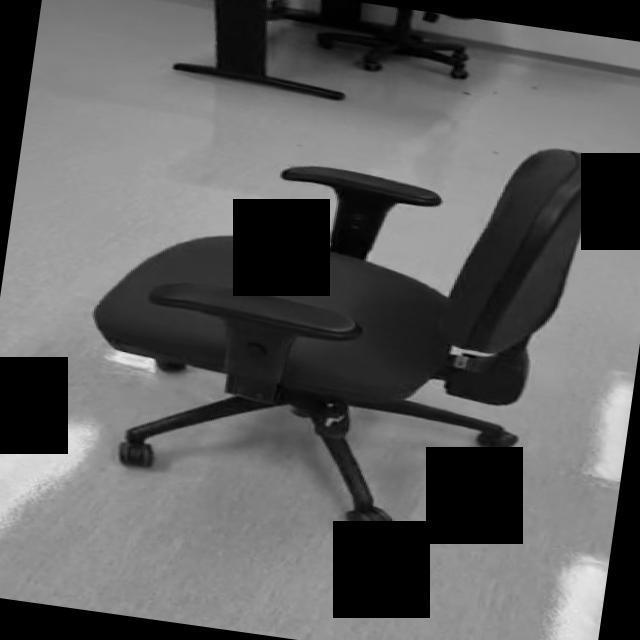chair: (68, 88, 601, 560)
